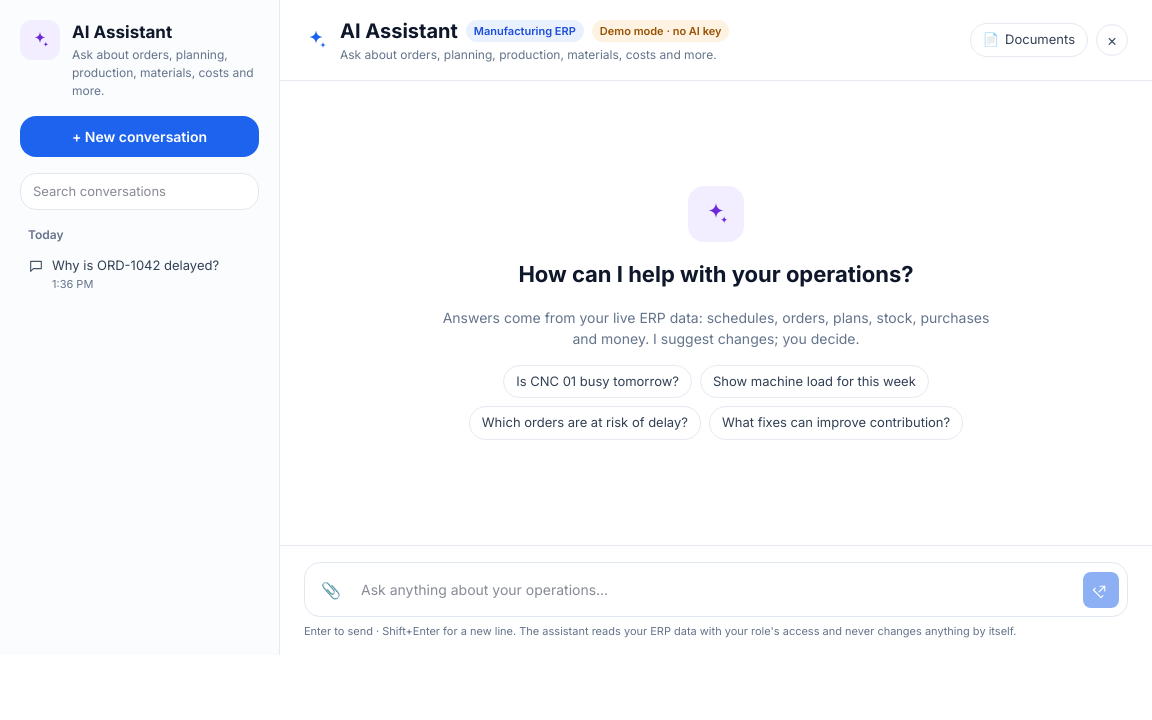
Scenario: asks a question: live steps, typed widgets, answer, recommended actions (approval comes next), related records, context
The width and height of the screenshot is (1152, 720).
Check: the text "Demo mode · no AI key" is shown, box [592,20,730,42]
Check: the heading "Today" is shown, box [28,227,64,242]
Type "Is CNC 01 busy tomorrow?" into the text box named "Message".
click(716, 589); type("Is CNC 01 busy tomorrow?")  # box [357,570,1075,608]
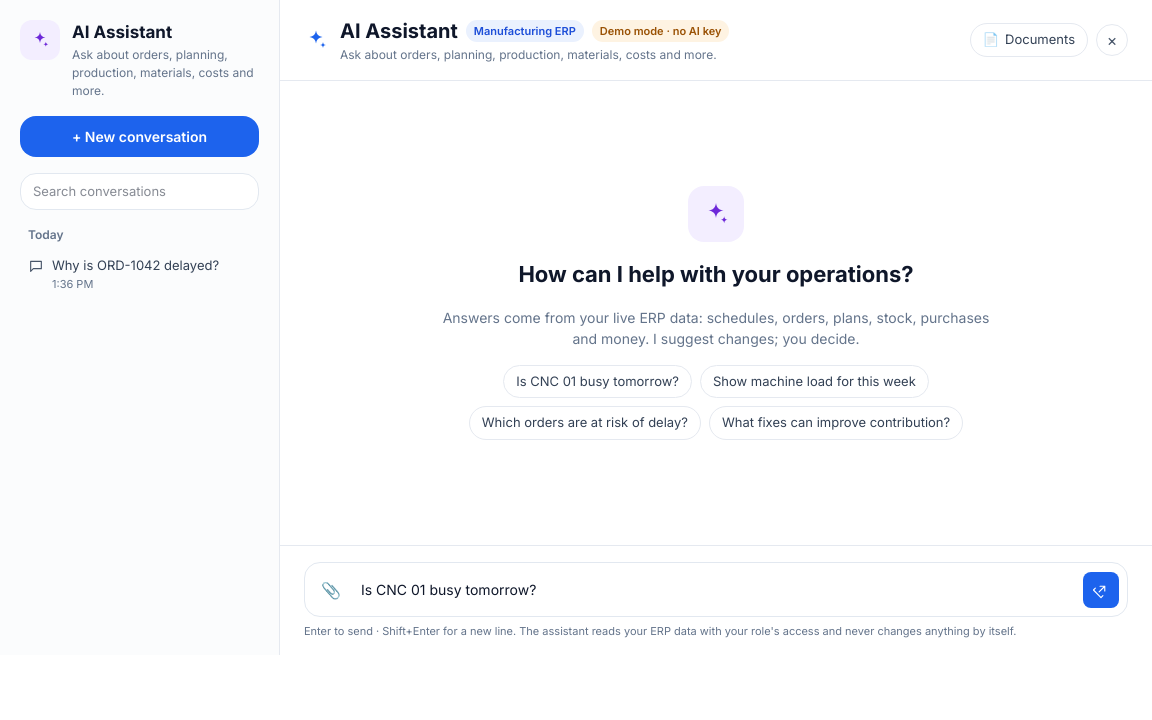
Press Enter in the text box named "Message", box [357,570,1075,608]
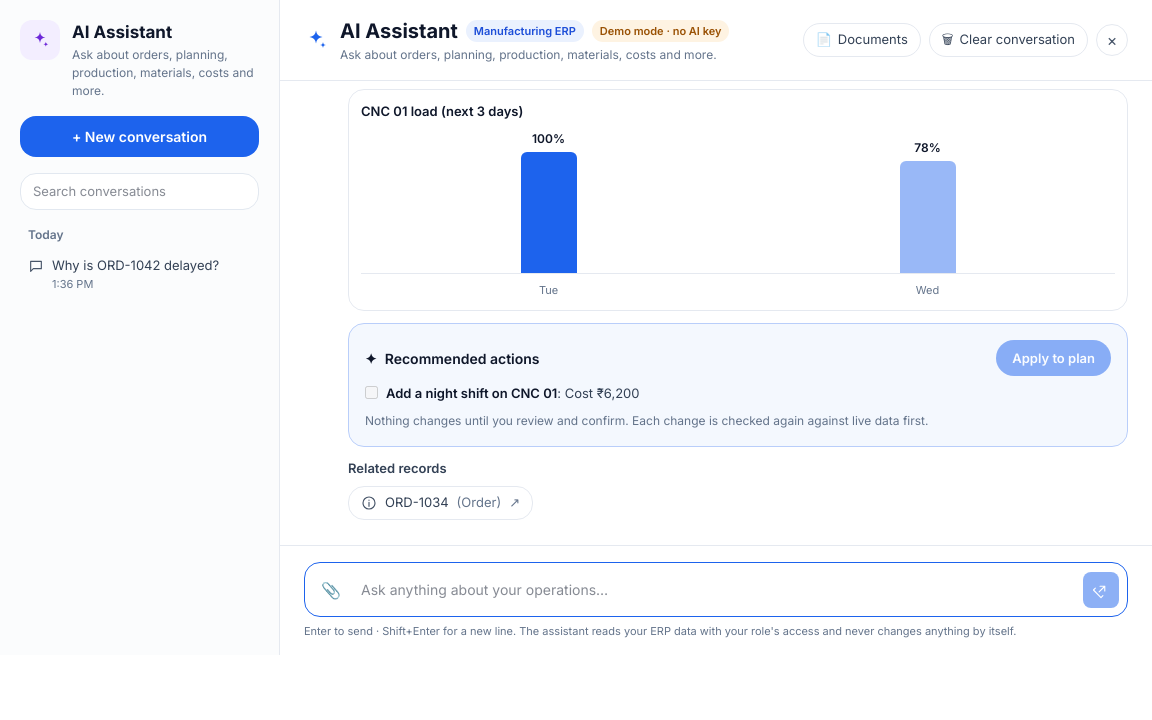
Check: the element that starts with "CNC 01 load (next 3 days)" is shown, box [361,103,523,119]
Check: the text "Add a night shift on CNC 01" is shown, box [386,385,557,401]
Check: the button "Apply to plan" is disabled, box [996,340,1111,376]
